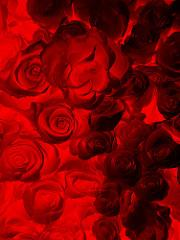rose: (43, 21, 133, 110), (1, 136, 62, 184), (7, 39, 52, 96), (31, 98, 82, 145), (23, 178, 69, 225), (69, 126, 121, 159), (98, 149, 145, 185), (120, 64, 156, 111), (123, 21, 162, 64), (141, 130, 180, 169), (82, 209, 130, 240), (135, 1, 177, 36), (134, 169, 171, 203), (154, 76, 180, 122), (157, 29, 180, 74)
